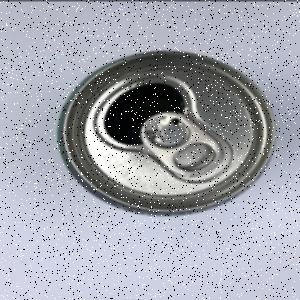Can: (57, 51, 278, 217)
